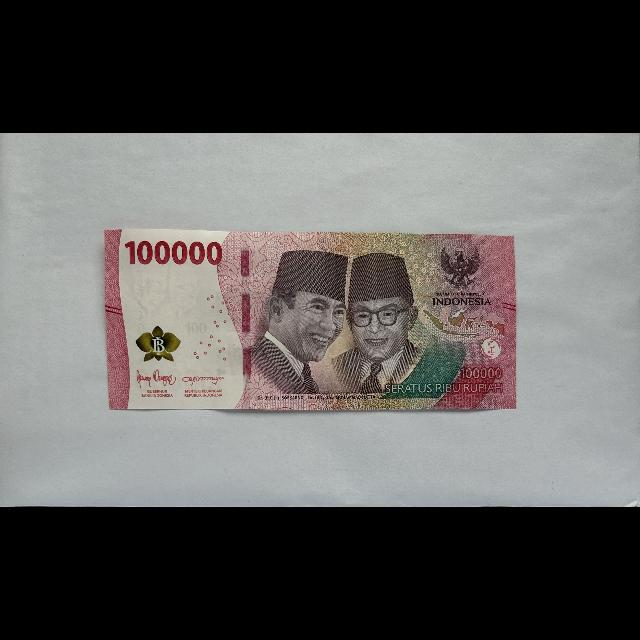Asli-100k: (104, 228, 519, 412)
Tinta-Asli-100k: (135, 325, 181, 363)
